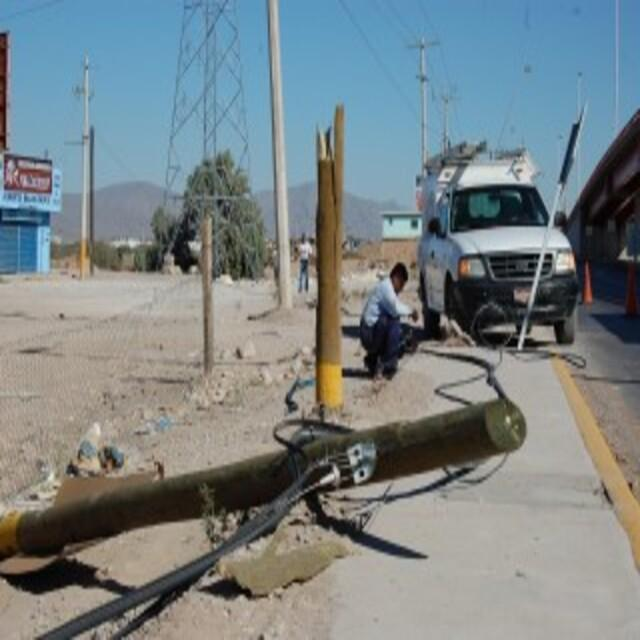Inclined Pole: (0, 395, 535, 568), (306, 104, 352, 410)
